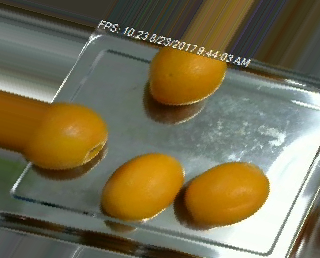Orange: (182, 160, 269, 228), (100, 151, 183, 220)
